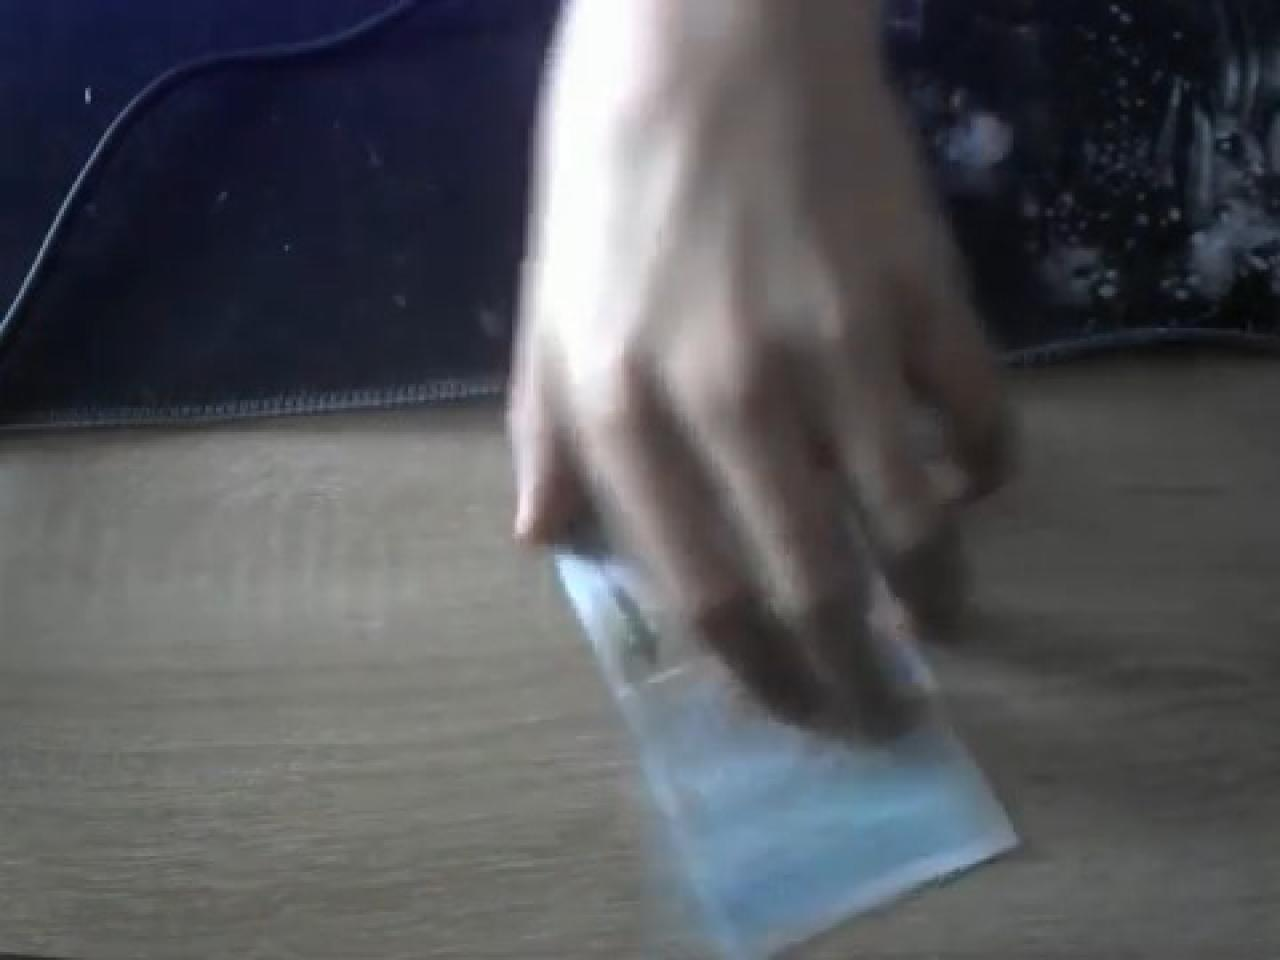20leva: (501, 0, 1027, 752)
